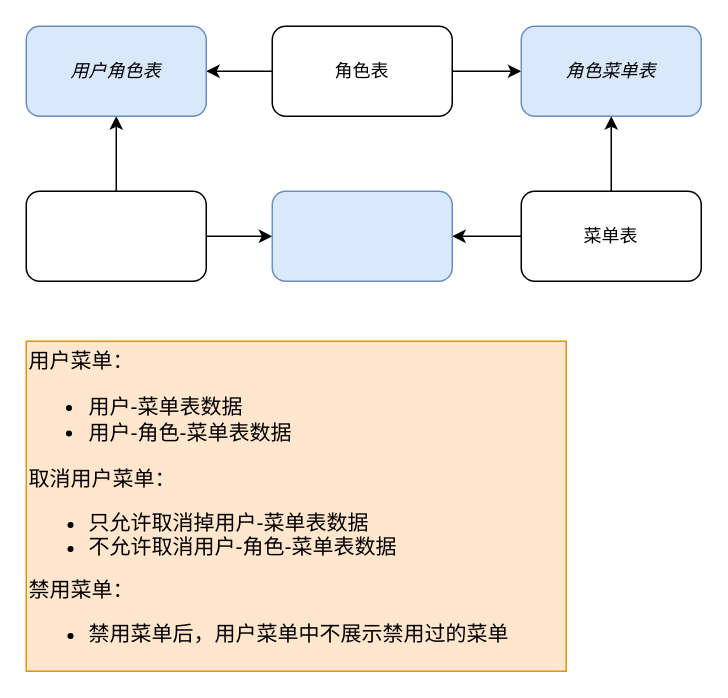
This 728x698 diagram has some shape labels left out. Here are the shapes that lost their labels. From the top down, the centre of each, then its label:
the point at 115,235: 用户表
the point at 361,235: 用户菜单表
